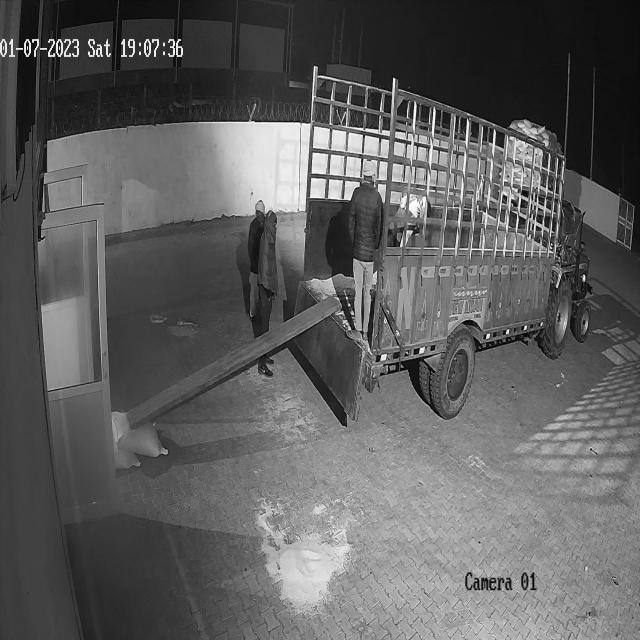sack: (112, 410, 166, 458)
